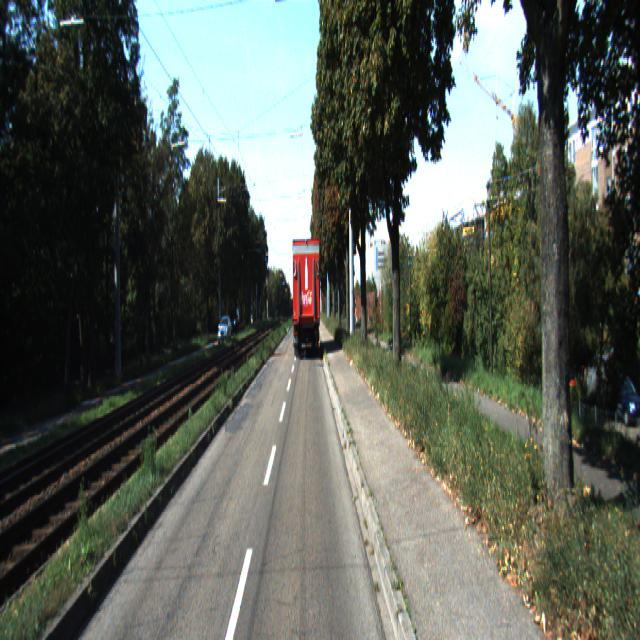Car: (290, 235, 322, 359), (217, 314, 232, 345)
